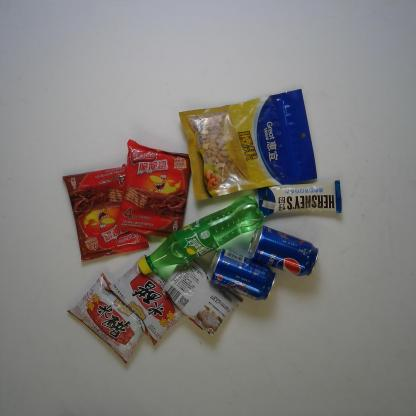Chocolate: (256, 179, 343, 217)
Dessert: (61, 162, 150, 262), (115, 138, 192, 238)
Dried Fruit: (178, 86, 318, 202)
Drink: (136, 196, 267, 276), (247, 224, 320, 278), (205, 246, 277, 300)
Seasoner: (66, 271, 149, 367), (102, 252, 184, 347), (160, 261, 245, 338)
